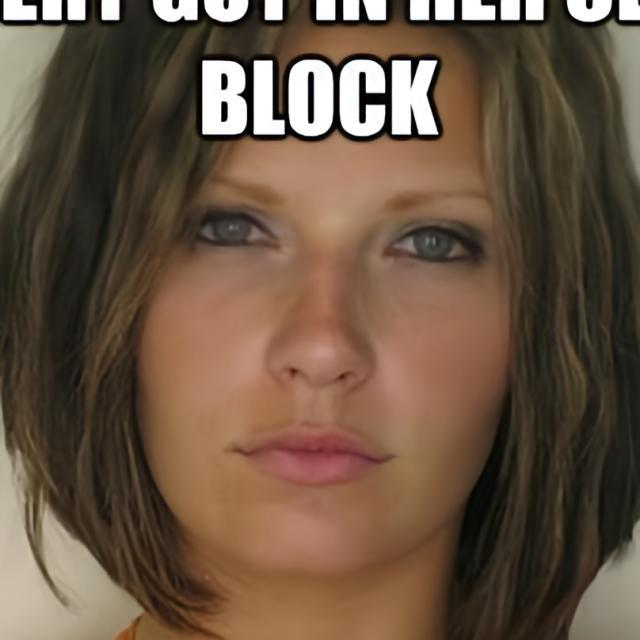neutral: (131, 0, 514, 580)
